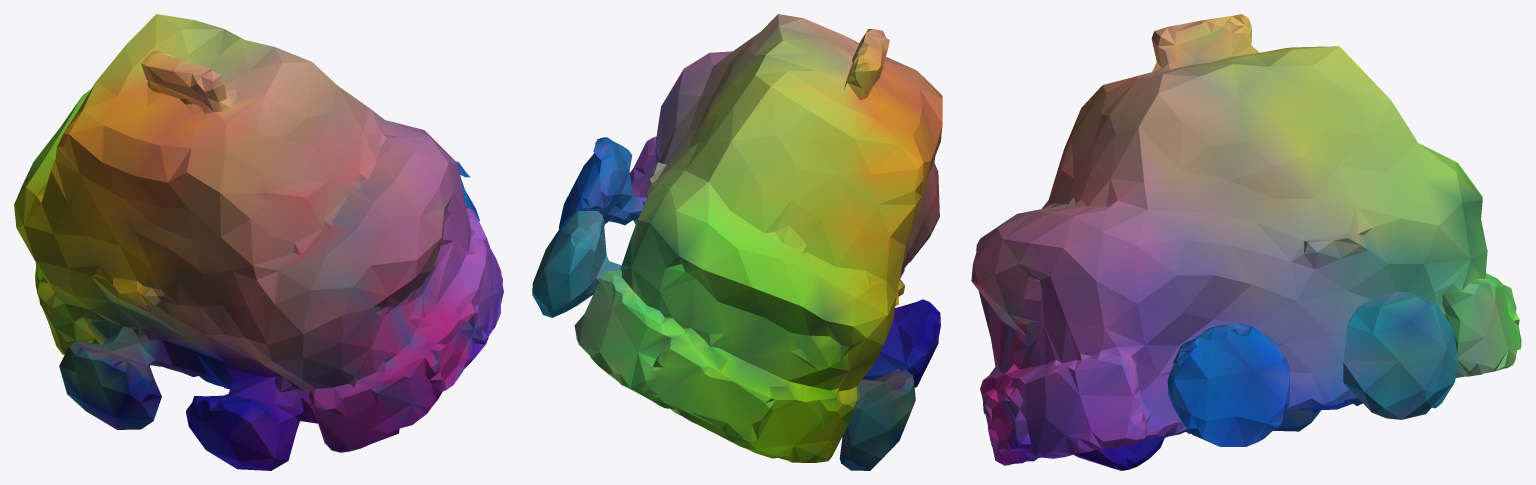
File: corr_cars_diff3f.glb
The picture shows the model from 3 angles, left to right: view 1: azimuth 30°, elevation 25°; view 2: azimuth 150°, elevation 25°; view 3: azimuth 270°, elevation 25°; orthographic projection. The views are drawn at different scales.
Visible parts, largest first — view 1: world; view 2: world; view 3: world.
Part boxes in pixels (x1=…): world: x1=14, y1=14, x2=503, y2=470; world: x1=532, y1=14, x2=942, y2=470; world: x1=971, y1=14, x2=1521, y2=470.
Bounding box in the file's own units: 1.62 × 1.56 × 1.81.
